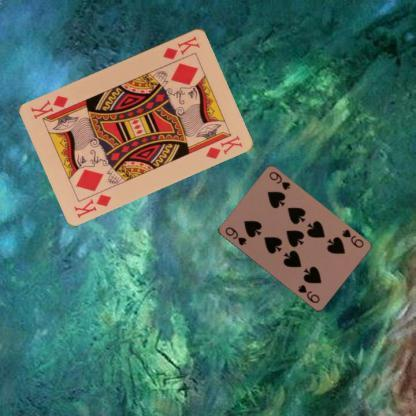9s: (339, 226, 365, 249), (223, 224, 247, 247)
Kd: (71, 191, 113, 220), (160, 33, 201, 61)
